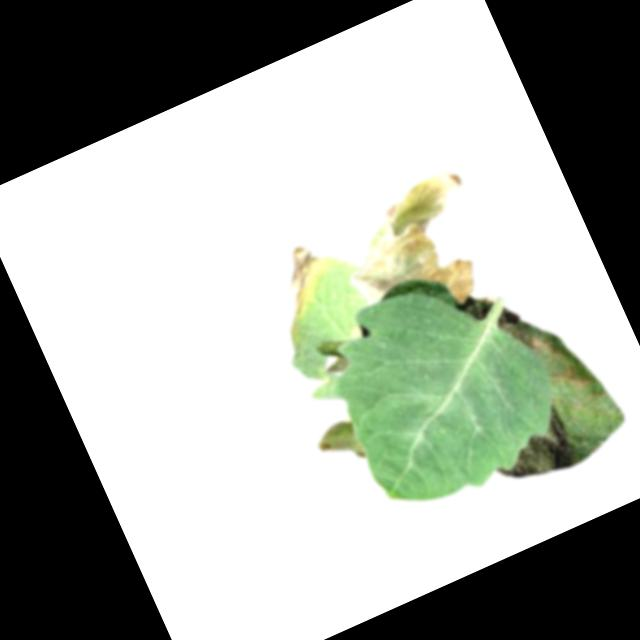Late_blight: (319, 163, 506, 340), (266, 238, 340, 316), (308, 417, 365, 474), (545, 357, 596, 403), (527, 328, 562, 363)
healthy: (286, 253, 569, 534)
